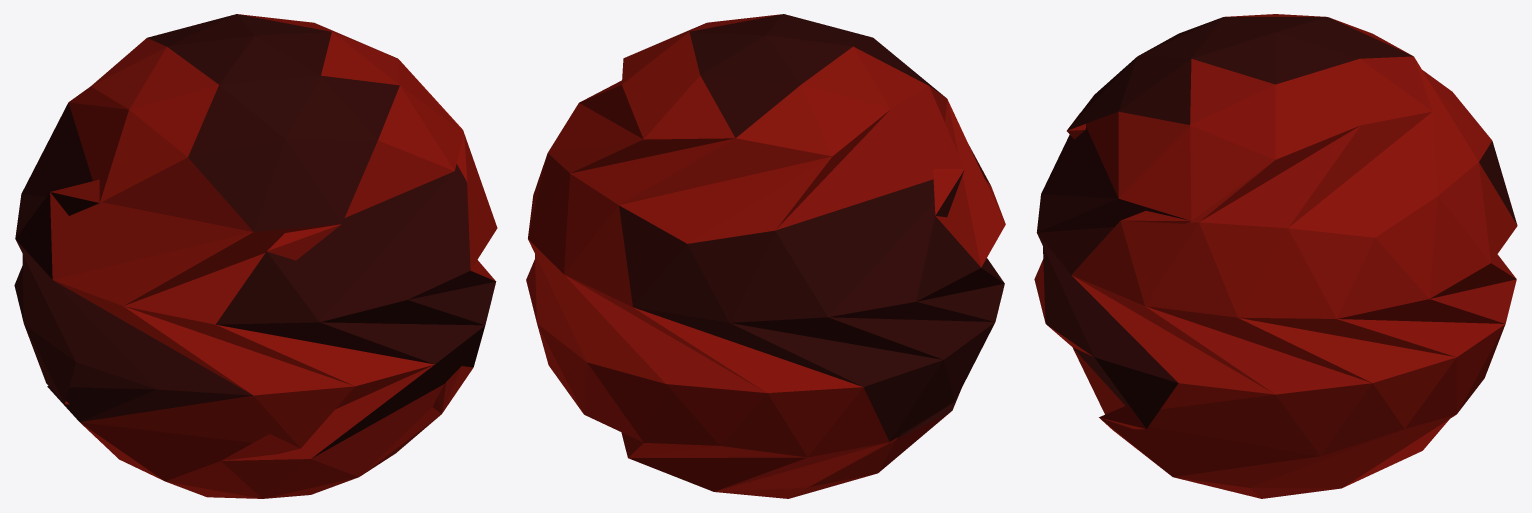
File: Mars_1239.obj
The picture shows the model from 3 angles, left to right: view 1: azimuth 30°, elevation 25°; view 2: azimuth 150°, elevation 25°; view 3: azimuth 270°, elevation 25°; orthographic projection.
Parts seen in each view (by area): view 1: GeoSphere001; view 2: GeoSphere001; view 3: GeoSphere001.
Part boxes in pixels (<box>): GeoSphere001: <box>14,14,497,498</box>; GeoSphere001: <box>526,14,1005,498</box>; GeoSphere001: <box>1034,14,1517,498</box>.
Size of the model in its own units: 59.57 by 60.43 by 59.5.
